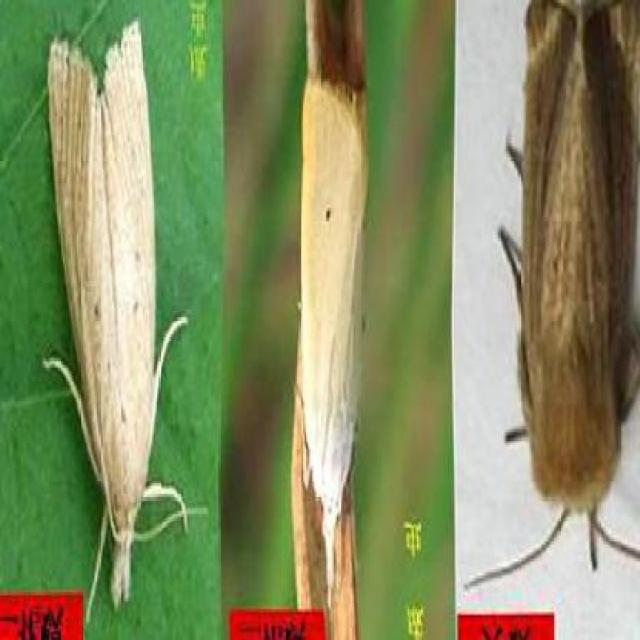stem-borer: (461, 0, 640, 592), (36, 14, 208, 621), (295, 74, 371, 603)
